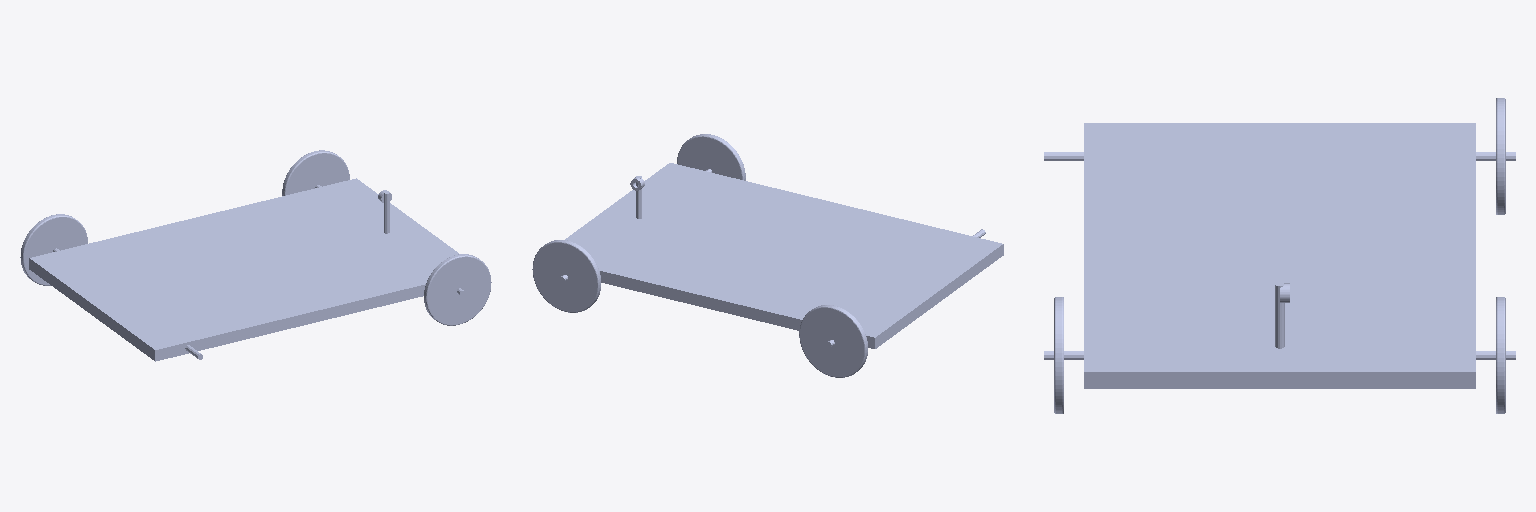
robot.urdf — dd:
<?xml version="1.0" encoding="utf-8"?>
<!-- This URDF was automatically created by SolidWorks to URDF Exporter! Originally created by [author] ([email redacted]) 
     Commit Version: 1.6.0-4-g7f85cfe  Build Version: 1.6.7995.38578
     For more information, please see http://wiki.ros.org/sw_urdf_exporter -->
<robot
  name="dd">
  <link
    name="base_link">
    <inertial>
      <origin
        xyz="0.00013693 0.0050257 -1.8097E-17"
        rpy="0 0 0" />
      <mass
        value="0.60226" />
      <inertia
        ixx="0.0020245"
        ixy="-1.8534E-06"
        ixz="-8.1229E-19"
        iyy="0.0065516"
        iyz="8.5205E-20"
        izz="0.0045379" />
    </inertial>
    <visual>
      <origin
        xyz="0 0 0"
        rpy="0 0 0" />
      <geometry>
        <mesh
          filename="package://dd/meshes/base_link.STL" />
      </geometry>
      <material
        name="">
        <color
          rgba="0.79216 0.81961 0.93333 1" />
      </material>
    </visual>
    <collision>
      <origin
        xyz="0 0 0"
        rpy="0 0 0" />
      <geometry>
        <mesh
          filename="package://dd/meshes/base_link.STL" />
      </geometry>
    </collision>
  </link>
  <link
    name="flw">
    <inertial>
      <origin
        xyz="-2.6021E-18 -0.0025 -2.7756E-17"
        rpy="0 0 0" />
      <mass
        value="0.013959" />
      <inertia
        ixx="3.1739E-06"
        ixy="3.8315E-35"
        ixz="-1.5293E-38"
        iyy="6.2902E-06"
        iyz="1.5125E-39"
        izz="3.1739E-06" />
    </inertial>
    <visual>
      <origin
        xyz="0 0 0"
        rpy="0 0 0" />
      <geometry>
        <mesh
          filename="package://dd/meshes/flw.STL" />
      </geometry>
      <material
        name="">
        <color
          rgba="0.79216 0.81961 0.93333 1" />
      </material>
    </visual>
    <collision>
      <origin
        xyz="0 0 0"
        rpy="0 0 0" />
      <geometry>
        <mesh
          filename="package://dd/meshes/flw.STL" />
      </geometry>
    </collision>
  </link>
  <joint
    name="flw_j"
    type="continuous">
    <origin
      xyz="0.12 0.115 0.005"
      rpy="0 -1.5708 0" />
    <parent
      link="base_link" />
    <child
      link="flw" />
    <axis
      xyz="0 1 0" />
  </joint>
  <link
    name="rlw">
    <inertial>
      <origin
        xyz="-2.6021E-18 -0.0025 -1.3878E-17"
        rpy="0 0 0" />
      <mass
        value="0.013959" />
      <inertia
        ixx="3.1739E-06"
        ixy="3.8314E-35"
        ixz="1.5288E-38"
        iyy="6.2902E-06"
        iyz="1.5125E-39"
        izz="3.1739E-06" />
    </inertial>
    <visual>
      <origin
        xyz="0 0 0"
        rpy="0 0 0" />
      <geometry>
        <mesh
          filename="package://dd/meshes/rlw.STL" />
      </geometry>
      <material
        name="">
        <color
          rgba="0.79216 0.81961 0.93333 1" />
      </material>
    </visual>
    <collision>
      <origin
        xyz="0 0 0"
        rpy="0 0 0" />
      <geometry>
        <mesh
          filename="package://dd/meshes/rlw.STL" />
      </geometry>
    </collision>
  </link>
  <joint
    name="rlw_j"
    type="continuous">
    <origin
      xyz="-0.12 0.115 0.005"
      rpy="0 -1.5708 0" />
    <parent
      link="base_link" />
    <child
      link="rlw" />
    <axis
      xyz="0 1 0" />
  </joint>
  <link
    name="rrw">
    <inertial>
      <origin
        xyz="0 0.0025 1.3878E-17"
        rpy="0 0 0" />
      <mass
        value="0.013959" />
      <inertia
        ixx="3.1739E-06"
        ixy="3.8314E-35"
        ixz="5.3379E-39"
        iyy="6.2902E-06"
        iyz="-2.4542E-39"
        izz="3.1739E-06" />
    </inertial>
    <visual>
      <origin
        xyz="0 0 0"
        rpy="0 0 0" />
      <geometry>
        <mesh
          filename="package://dd/meshes/rrw.STL" />
      </geometry>
      <material
        name="">
        <color
          rgba="0.79216 0.81961 0.93333 1" />
      </material>
    </visual>
    <collision>
      <origin
        xyz="0 0 0"
        rpy="0 0 0" />
      <geometry>
        <mesh
          filename="package://dd/meshes/rrw.STL" />
      </geometry>
    </collision>
  </link>
  <joint
    name="rrw_j"
    type="continuous">
    <origin
      xyz="-0.12 -0.115 0.005"
      rpy="0 -1.5708 0" />
    <parent
      link="base_link" />
    <child
      link="rrw" />
    <axis
      xyz="0 1 0" />
  </joint>
  <link
    name="frw">
    <inertial>
      <origin
        xyz="0 0.0025 -1.3878E-17"
        rpy="0 0 0" />
      <mass
        value="0.013959" />
      <inertia
        ixx="3.1739E-06"
        ixy="3.8314E-35"
        ixz="5.3379E-39"
        iyy="6.2902E-06"
        iyz="-1.9848E-39"
        izz="3.1739E-06" />
    </inertial>
    <visual>
      <origin
        xyz="0 0 0"
        rpy="0 0 0" />
      <geometry>
        <mesh
          filename="package://dd/meshes/frw.STL" />
      </geometry>
      <material
        name="">
        <color
          rgba="0.79216 0.81961 0.93333 1" />
      </material>
    </visual>
    <collision>
      <origin
        xyz="0 0 0"
        rpy="0 0 0" />
      <geometry>
        <mesh
          filename="package://dd/meshes/frw.STL" />
      </geometry>
    </collision>
  </link>
  <joint
    name="frw_j"
    type="continuous">
    <origin
      xyz="0.12 -0.115 0.005"
      rpy="0 -1.5708 0" />
    <parent
      link="base_link" />
    <child
      link="frw" />
    <axis
      xyz="0 1 0" />
  </joint>
  <link
    name="lidar">
    <inertial>
      <origin
        xyz="-2.7756E-17 0.0025 -1.4329E-17"
        rpy="0 0 0" />
      <mass
        value="0.00029452" />
      <inertia
        ixx="2.9146E-09"
        ixy="-1.1857E-41"
        ixz="-2.3434E-42"
        iyy="4.6019E-09"
        iyz="-6.8932E-26"
        izz="2.9146E-09" />
    </inertial>
    <visual>
      <origin
        xyz="0 0 0"
        rpy="0 0 0" />
      <geometry>
        <mesh
          filename="package://dd/meshes/lidar.STL" />
      </geometry>
      <material
        name="">
        <color
          rgba="0.79216 0.81961 0.93333 1" />
      </material>
    </visual>
    <collision>
      <origin
        xyz="0 0 0"
        rpy="0 0 0" />
      <geometry>
        <mesh
          filename="package://dd/meshes/lidar.STL" />
      </geometry>
    </collision>
  </link>
  <joint
    name="lidar_j"
    type="fixed">
    <origin
      xyz="0.12 0 0.04"
      rpy="0 0 0" />
    <parent
      link="base_link" />
    <child
      link="lidar" />
    <axis
      xyz="0 0 0" />
  </joint>
  <link
    name="radar">
    <inertial>
      <origin
        xyz="-1.3878E-17 0.0025 -1.4329E-17"
        rpy="0 0 0" />
      <mass
        value="0.00029452" />
      <inertia
        ixx="2.9146E-09"
        ixy="-1.1857E-41"
        ixz="-2.3434E-42"
        iyy="4.6019E-09"
        iyz="-5.1768E-41"
        izz="2.9146E-09" />
    </inertial>
    <visual>
      <origin
        xyz="0 0 0"
        rpy="0 0 0" />
      <geometry>
        <mesh
          filename="package://dd/meshes/radar.STL" />
      </geometry>
      <material
        name="">
        <color
          rgba="0.79216 0.81961 0.93333 1" />
      </material>
    </visual>
    <collision>
      <origin
        xyz="0 0 0"
        rpy="0 0 0" />
      <geometry>
        <mesh
          filename="package://dd/meshes/radar.STL" />
      </geometry>
    </collision>
  </link>
  <joint
    name="radar_j"
    type="fixed">
    <origin
      xyz="0.12 0 0.01"
      rpy="0 0 0" />
    <parent
      link="base_link" />
    <child
      link="radar" />
    <axis
      xyz="0 0 0" />
  </joint>
        <!-- Gazebo plugin for the LIDAR sensor -->
  <gazebo reference="lidar">
    <sensor type="ray" name="head_hokuyo_sensor">
      <pose>0 0 0 0 0 0</pose>
      <visualize>false</visualize>
      <update_rate>40</update_rate>
      <ray>
        <scan>
          <horizontal>
            <samples>720</samples>
            <resolution>1</resolution>
            <min_angle>-3.14</min_angle>
            <max_angle>3.14</max_angle>
          </horizontal>
        </scan>
        <range>
          <min>0.10</min>
          <max>30.0</max>
          <resolution>0.01</resolution>
        </range>
        <noise>
          <type>gaussian</type>
          <!-- Noise parameters based on published spec for Hokuyo laser
               achieving "+-30mm" accuracy at range < 10m.  A mean of 0.0m and
               stddev of 0.01m will put 99.7% of samples within 0.03m of the true
               reading. -->
          <mean>0.0</mean>
          <stddev>0.01</stddev>
        </noise>
      </ray>
      <plugin name="gazebo_ros_head_hokuyo_controller" filename="libgazebo_ros_laser.so">
        <topicName>/laser/scan</topicName>
        <frameName>lidar</frameName>
      </plugin>
    </sensor>
  </gazebo>

  <gazebo>
    <plugin name="differential_drive_controller" filename="libgazebo_ros_diff_drive.so">

      <!-- Plugin update rate in Hz -->
      <updateRate>50</updateRate>

      <!-- Name of left joint, defaults to `left_joint` -->
      <leftJoint>rlw_j</leftJoint>

      <!-- Name of right joint, defaults to `right_joint` -->
      <rightJoint>rrw_j</rightJoint>

      <!-- The distance from the center of one wheel to the other, in meters, defaults to 0.34 m -->
      <wheelSeparation>0.220</wheelSeparation>

      <!-- Diameter of the wheels, in meters, defaults to 0.15 m -->
      <wheelDiameter>0.060</wheelDiameter>

      <!-- Wheel acceleration, in rad/s^2, defaults to 0.0 rad/s^2 -->
      <wheelAcceleration>1.0</wheelAcceleration>

      <!-- Maximum torque which the wheels can produce, in Nm, defaults to 5 Nm -->
      <wheelTorque>20</wheelTorque>

      <!-- Topic to receive geometry_msgs/Twist message commands, defaults to `cmd_vel` -->
      <commandTopic>cmd_vel</commandTopic>

      <!-- Topic to publish nav_msgs/Odometry messages, defaults to `odom` -->
      <odometryTopic>odom</odometryTopic>

      <!-- Odometry frame, defaults to `odom` -->
      <odometryFrame>odom</odometryFrame>

      <!-- Robot frame to calculate odometry from, defaults to `base_footprint` -->
      <robotBaseFrame>base_footprint</robotBaseFrame>

      <!-- Odometry source, 0 for ENCODER, 1 for WORLD, defaults to WORLD -->
      <odometrySource>1</odometrySource>

      <!-- Set to true to publish transforms for the wheel links, defaults to false -->
      <publishWheelTF>true</publishWheelTF>

      <!-- Set to true to publish transforms for the odometry, defaults to true -->
      <publishOdom>true</publishOdom>

      <!-- Set to true to publish sensor_msgs/JointState on /joint_states for the wheel joints, defaults to false -->
      <publishWheelJointState>true</publishWheelJointState>

      <!-- Set to true to swap right and left wheels, defaults to true -->
      <legacyMode>false</legacyMode>
      <!--<robotBaseFrame>base_link</robotBaseFrame>-->
    </plugin>
  </gazebo>

  <gazebo reference="rlw">
    <mu1>0.9</mu1>
    <mu2>0.9</mu2>
  </gazebo>

  <gazebo reference="rrw">
    <mu1>0.9</mu1>
    <mu2>0.9</mu2>
  </gazebo>

  <gazebo reference="flw">
    <mu1>0.9</mu1>
    <mu2>0.9</mu2>
  </gazebo>

  <gazebo reference="frw">
    <mu1>0.9</mu1>
    <mu2>0.9</mu2>
  </gazebo>
</robot>

--- Facts derived from the render (not from the file) ---
3 views of the same robot in one strip: view 1: azimuth 30°, elevation 25°; view 2: azimuth 150°, elevation 25°; view 3: azimuth 270°, elevation 25° (orthographic).
Model dd with 7 links and 6 joints (4 continuous, 2 fixed), rooted at base_link, posed all joints at 0.
Visible links, largest first — view 1: base_link, frw, rlw, flw; view 2: base_link, rlw, flw, frw; view 3: base_link, flw, rlw, frw.
Boxes of the visible links, <box> form: base_link: <box>29,178,464,361</box>; frw: <box>424,254,491,325</box>; rlw: <box>20,214,87,285</box>; flw: <box>282,150,349,195</box>; base_link: <box>559,163,1003,348</box>; rlw: <box>799,305,867,377</box>; flw: <box>532,240,600,312</box>; frw: <box>677,134,745,180</box>; base_link: <box>1044,123,1515,388</box>; flw: <box>1496,297,1505,413</box>; rlw: <box>1496,98,1505,214</box>; frw: <box>1054,297,1063,413</box>.
Bounding box of the posed robot: 0.3 × 0.24 × 0.07 m (x, y, z).
Meshes: 7 distinct files referenced, 5 mesh visuals loaded (5 binary STL); not drawn: 2 (reference not matched to a file when rendering).
